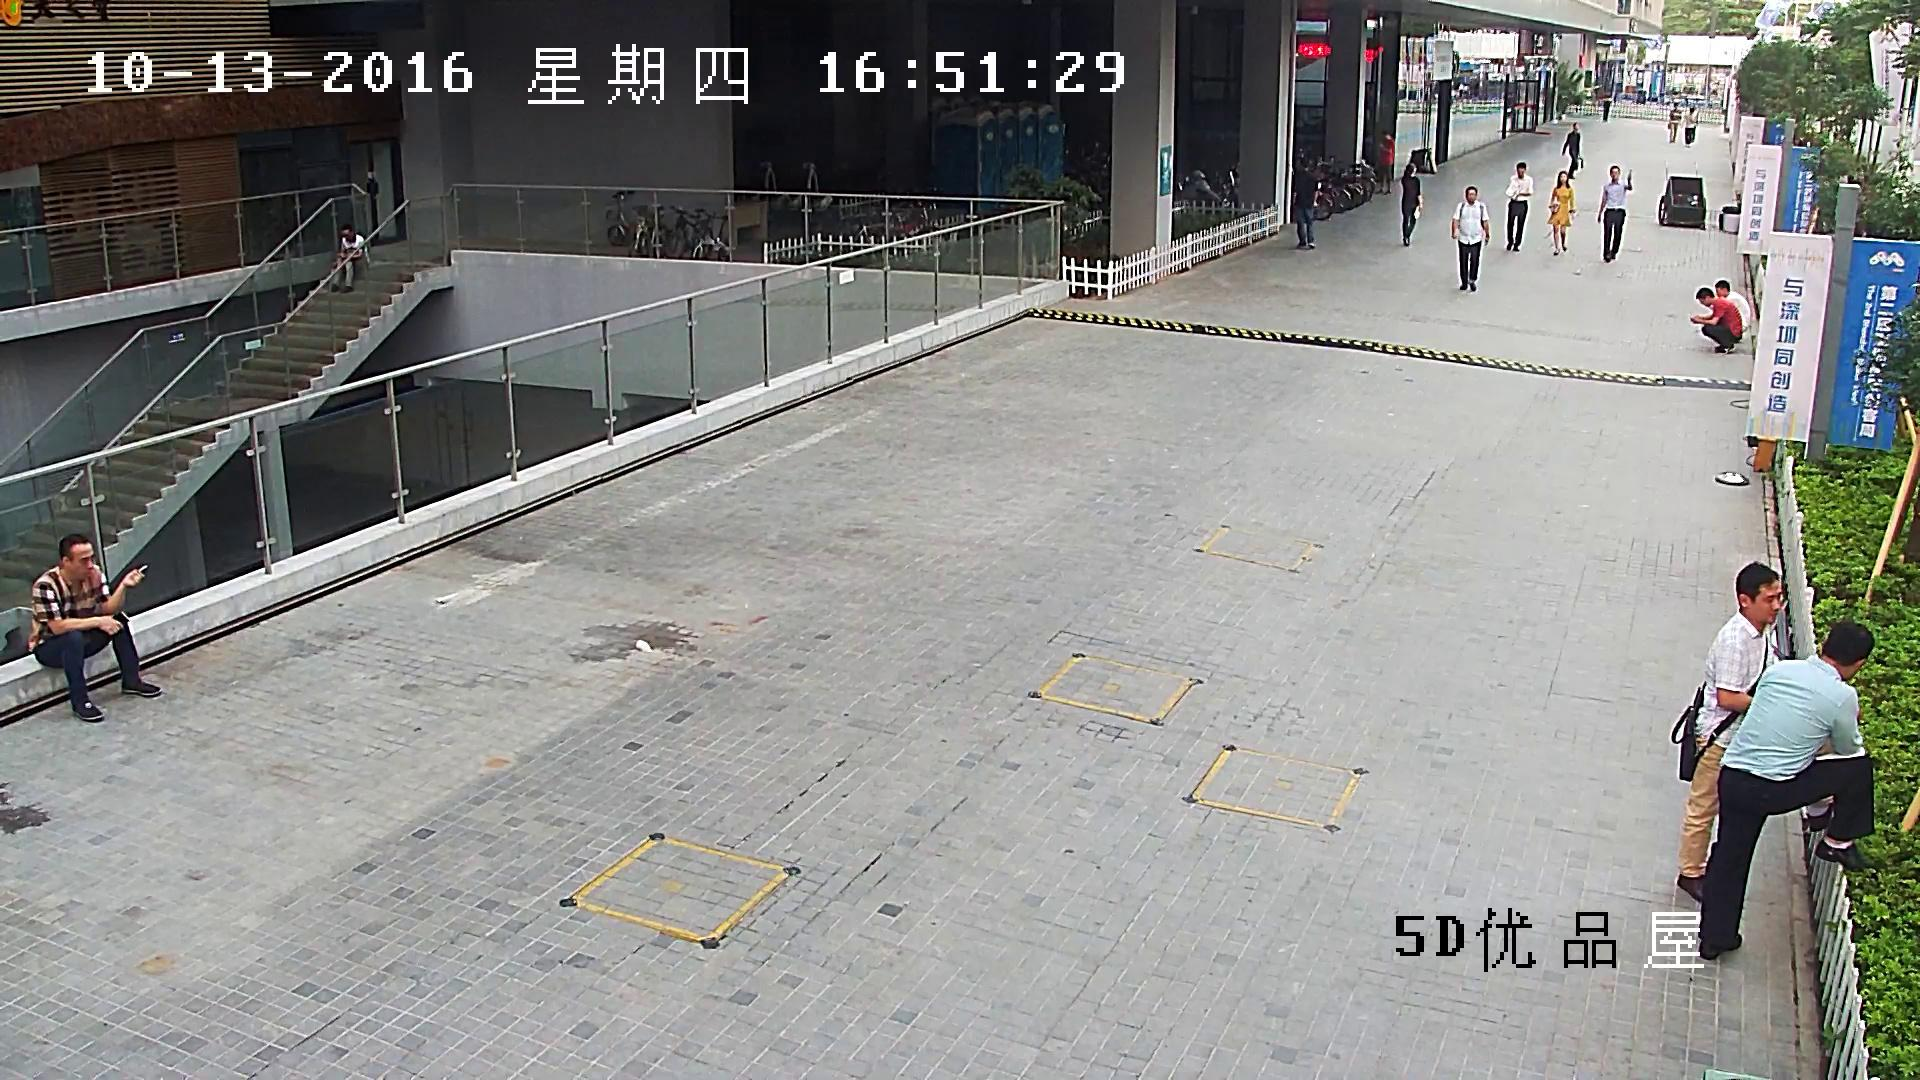person: (1697, 622, 1878, 958), (1671, 562, 1796, 901), (26, 532, 162, 721), (1451, 185, 1490, 292), (1690, 287, 1743, 353), (1597, 165, 1632, 263), (328, 222, 371, 293), (1290, 157, 1319, 248), (1546, 170, 1576, 256), (1504, 161, 1532, 251), (1713, 279, 1751, 343), (1400, 163, 1423, 246), (1376, 133, 1395, 194), (1561, 122, 1583, 179), (1667, 102, 1682, 144), (1684, 107, 1698, 147), (1601, 94, 1611, 121)
